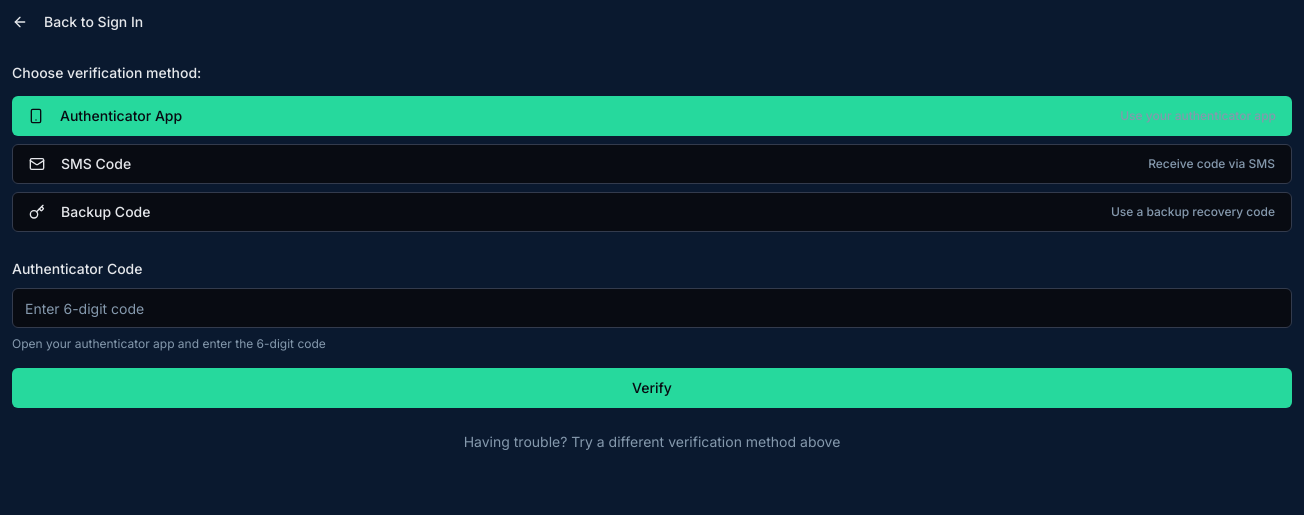
Test: TwoFactorForm › Strategy Selection › should switch between strategies
This screenshot has width=1304, height=515.
Note: Switch to SMS
Step 1. Click the button "SMS Code Receive code via SMS" → (96, 164), box [12, 144, 1292, 184]
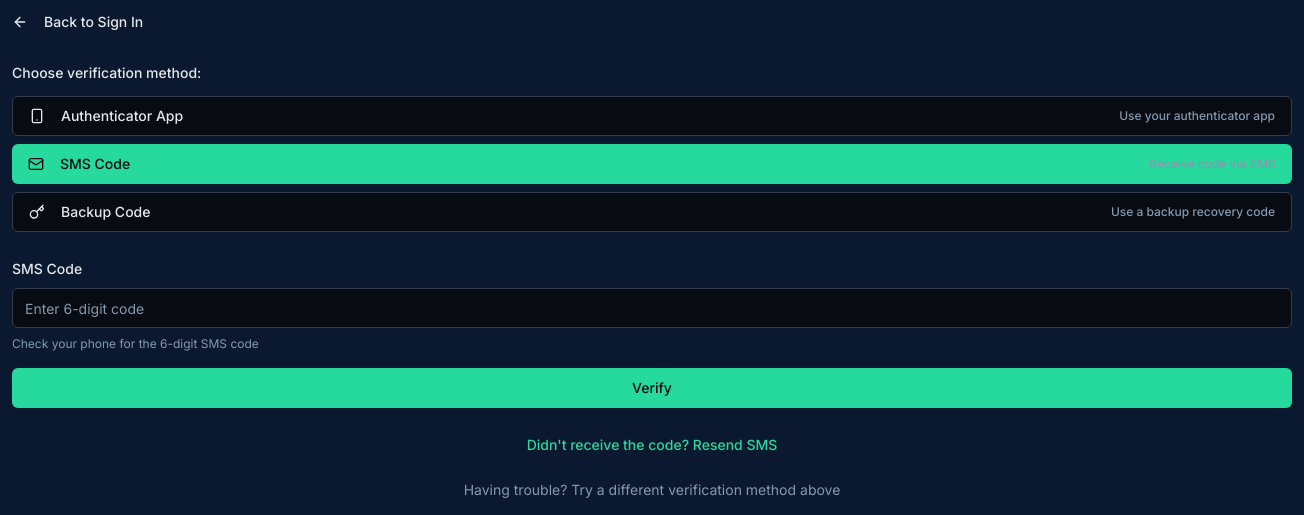
Expected: the field labelled "SMS Code" is shown, [12, 288, 1292, 328]
Note: Switch to backup code
Step 2. Click the button "Backup Code Use a backup recovery code" → (106, 212), box [12, 192, 1292, 232]
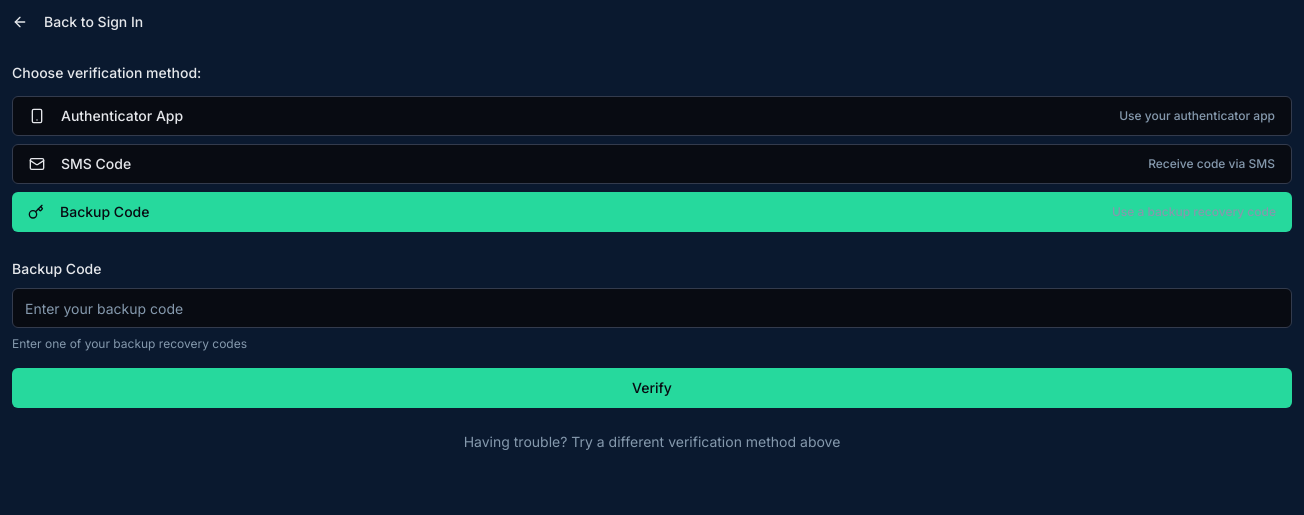
Now the field labelled "Backup Code" is shown, box [12, 288, 1292, 328]
